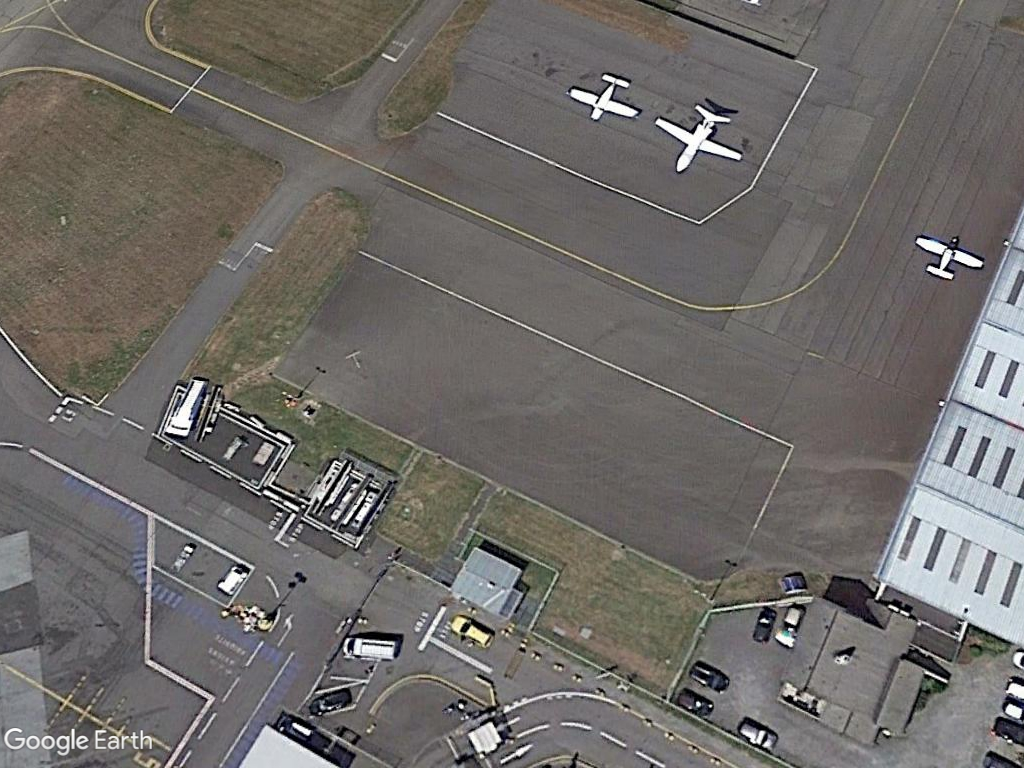chartered: (652, 93, 746, 180)
pushbacktruck: (213, 556, 252, 602)
trainer: (567, 68, 644, 127), (913, 229, 990, 285)
